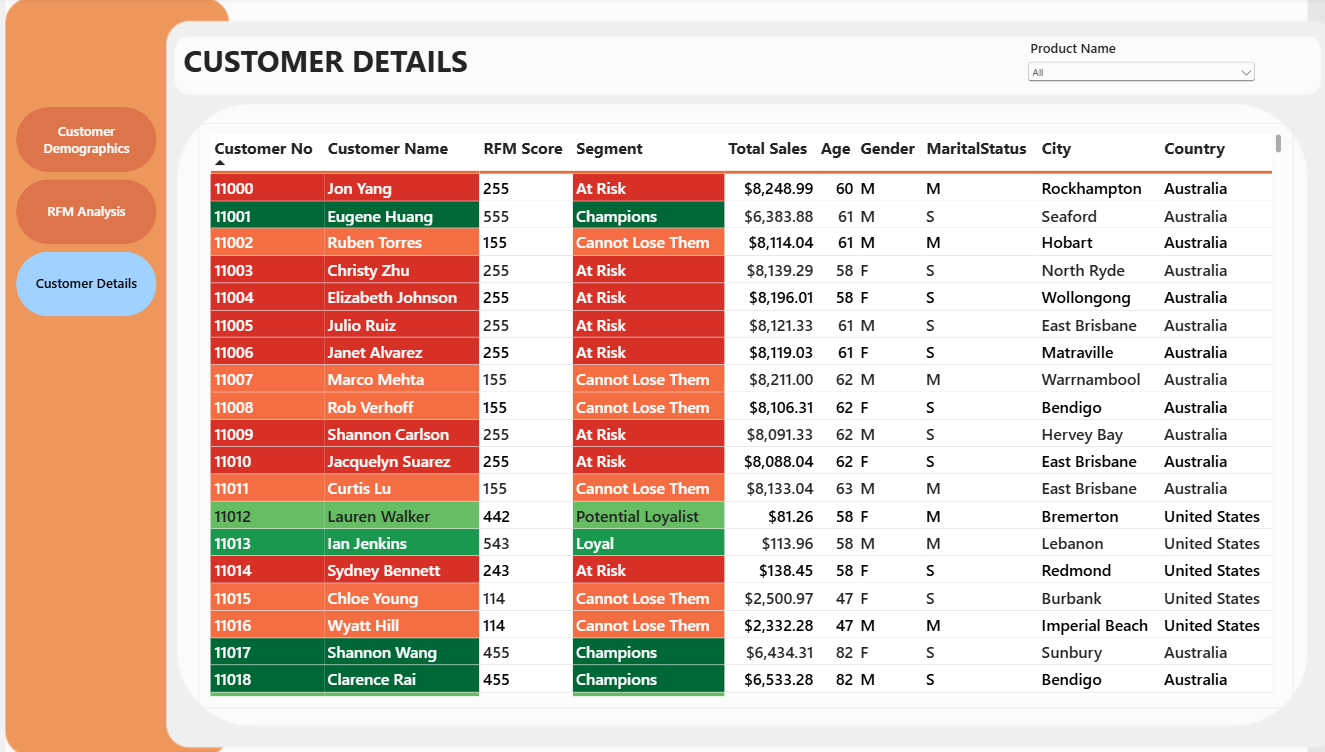

This screenshot's page, from the dashboard's own definition file:
{"tool":"powerbi","page":{"name":"Customer Details","canvas":[1920,1080],"ordinal":2},"visuals":[{"type":"textbox","box":[275,60.7,437.5,67.9],"z":0},{"type":"tableEx","fields":{"Values":["RFM Table.CustomerKey","DimCustomer.FirstName","DimCustomer.LastName","DimCustomer.Gender","DimCustomer.MaritalStatus","DimCustomer.Age","DimGeography.City","DimGeography.Country","Sum(FactInternetSales.SalesAmount)","Segment Score.Segment"]},"box":[296.4,180.4,1564.3,835.7],"z":1},{"type":"slicer","fields":{"Values":["DimProduct.Product Name"]},"box":[1476.8,60.7,333.9,67.9],"z":2},{"type":"pageNavigator","box":[35.7,157.1,201.8,301.8],"z":3}]}

Visuals, with their boxes in screenshot pixels (x1, y1, x2, y2), scaled from the page's 1920x1080 canvas onto the 1325x752 screenshot:
textbox: [190,42,492,90]
tableEx - RFM Table.CustomerKey x DimCustomer.FirstName: [205,126,1284,708]
slicer - DimProduct.Product Name: [1019,42,1250,90]
pageNavigator: [25,109,164,320]
